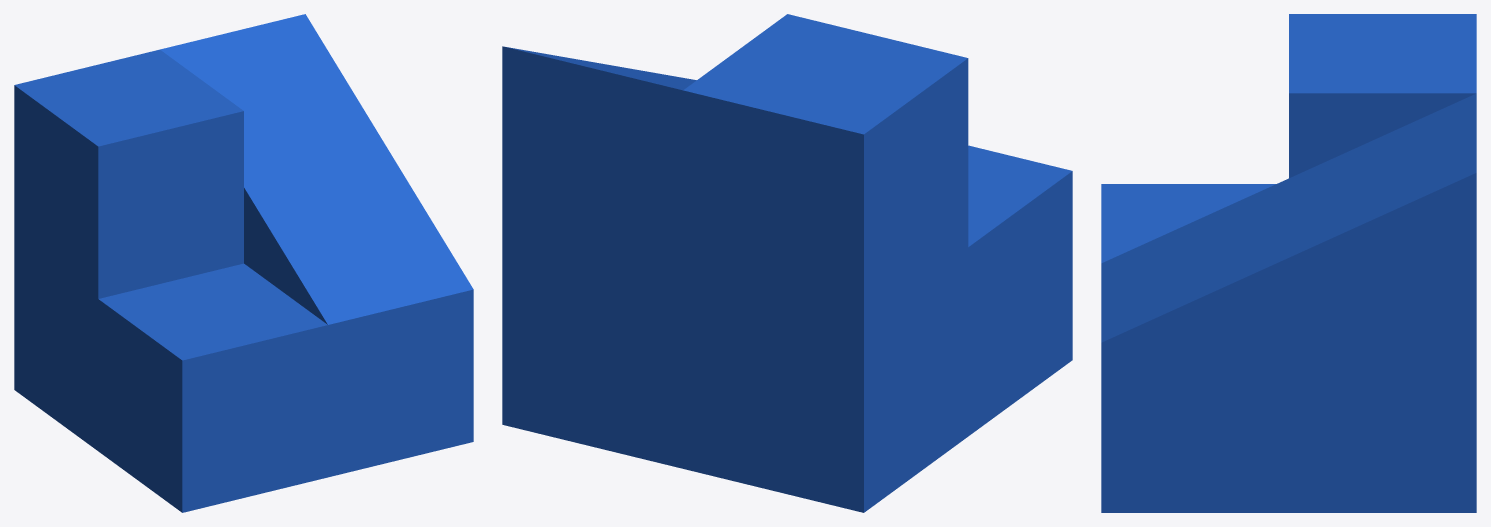
The model's file is Pieza-D.glb.
3 views of the same model, side by side, from view 1: azimuth 30°, elevation 25°; view 2: azimuth 150°, elevation 25°; view 3: azimuth 270°, elevation 25° (orthographic). The views are drawn at different scales.
Parts seen in each view (by area): view 1: Pieza-D.stl; view 2: Pieza-D.stl; view 3: Pieza-D.stl.
Boxes of the visible parts, x1,y1,x2,y2 form: Pieza-D.stl: (14, 14, 473, 512); Pieza-D.stl: (502, 14, 1072, 512); Pieza-D.stl: (1101, 14, 1476, 512).
Bounding box in the file's own units: 4 × 4 × 4.
